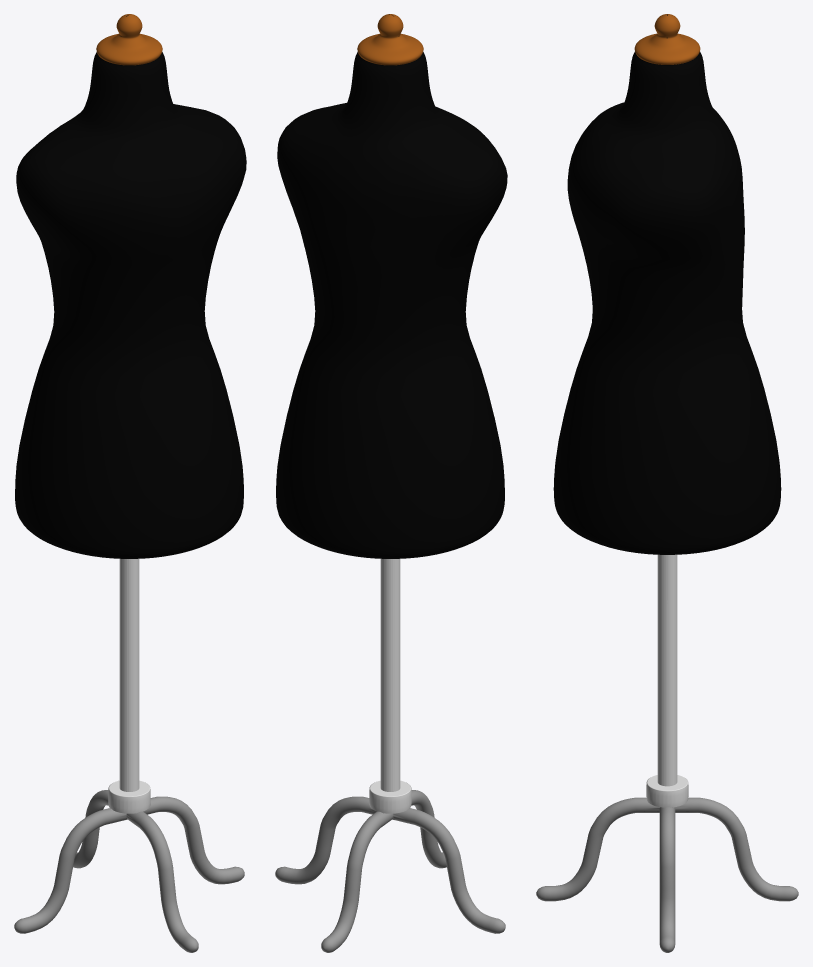
File: manekin.fbx
The picture shows the model from 3 angles, left to right: view 1: azimuth 30°, elevation 25°; view 2: azimuth 150°, elevation 25°; view 3: azimuth 270°, elevation 25°; orthographic projection.
Visible parts, largest first — view 1: Cylinder, Cylinder.002, Cylinder.001; view 2: Cylinder, Cylinder.002, Cylinder.001; view 3: Cylinder, Cylinder.002, Cylinder.001.
Part boxes in pixels (bbox=[...]): Cylinder: bbox=[15, 14, 246, 558]; Cylinder.002: bbox=[14, 790, 244, 952]; Cylinder.001: bbox=[108, 558, 150, 813]; Cylinder: bbox=[276, 14, 507, 558]; Cylinder.002: bbox=[275, 790, 505, 952]; Cylinder.001: bbox=[369, 558, 411, 813]; Cylinder: bbox=[553, 14, 781, 554]; Cylinder.002: bbox=[536, 797, 798, 952]; Cylinder.001: bbox=[646, 554, 688, 807].
Size of the model in its own units: 380 by 1416 by 380.
